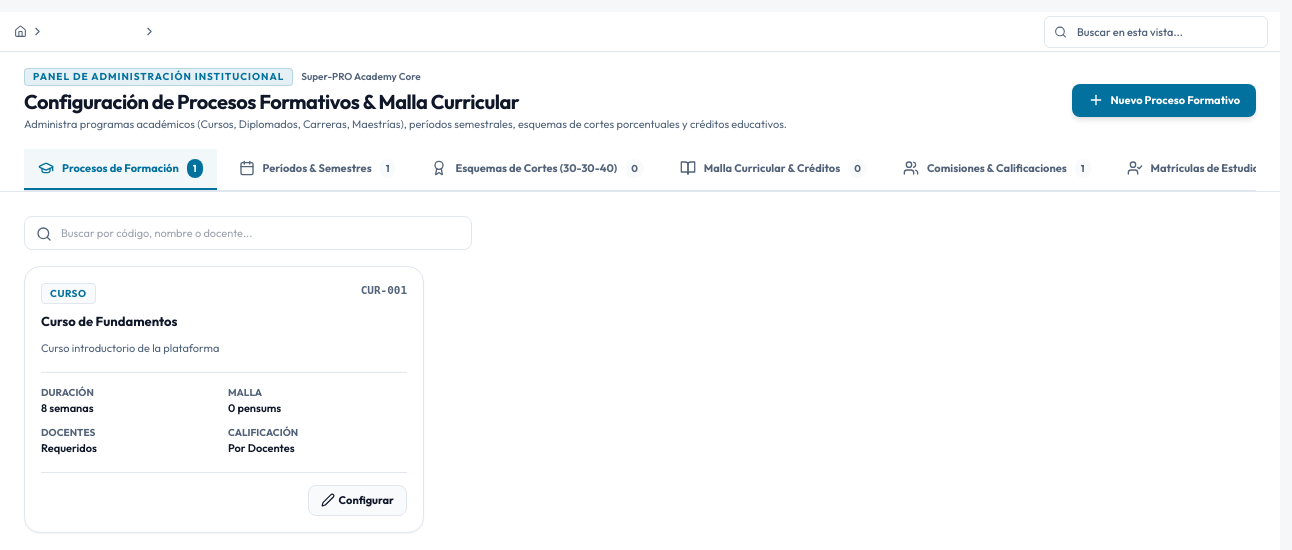
it: AcademyAdminConsole › muestra el estado vacío del tab de esquemas cuando no hay esquemas
The width and height of the screenshot is (1292, 550).
Expected: the heading "Curso de Fundamentos" is shown, top-left (41, 313), bottom-right (178, 329)
Click the button "Esquemas de Cortes (30-30-40) 0" at [538, 169], box top-left (418, 148), bottom-right (658, 190)
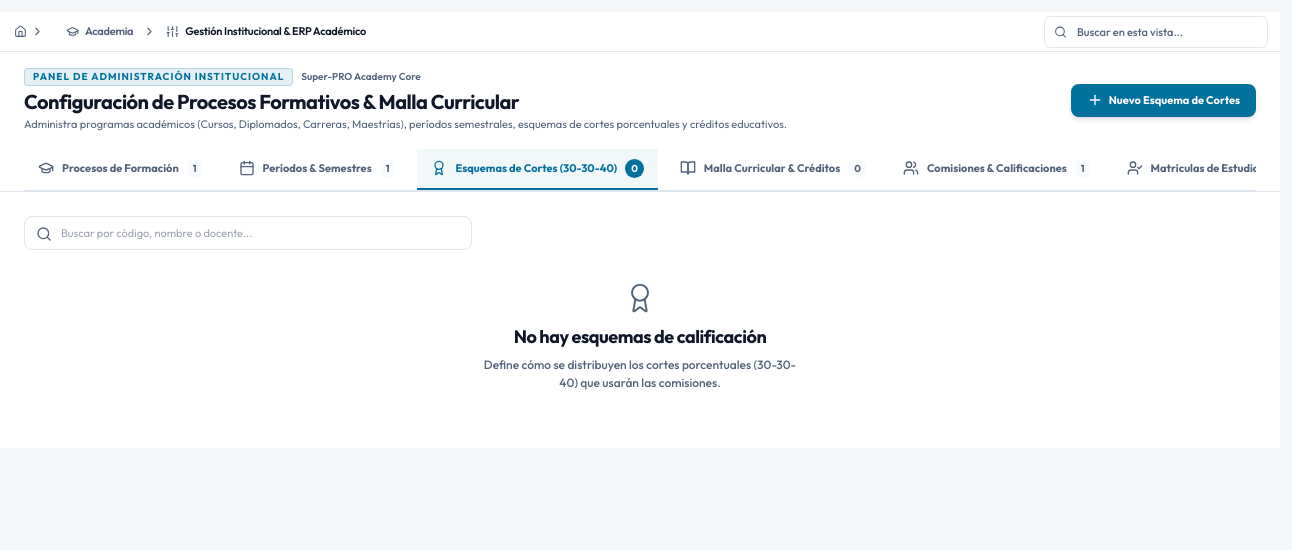
Expected: the heading "No hay esquemas de calificación" is shown, top-left (514, 325), bottom-right (766, 348)
